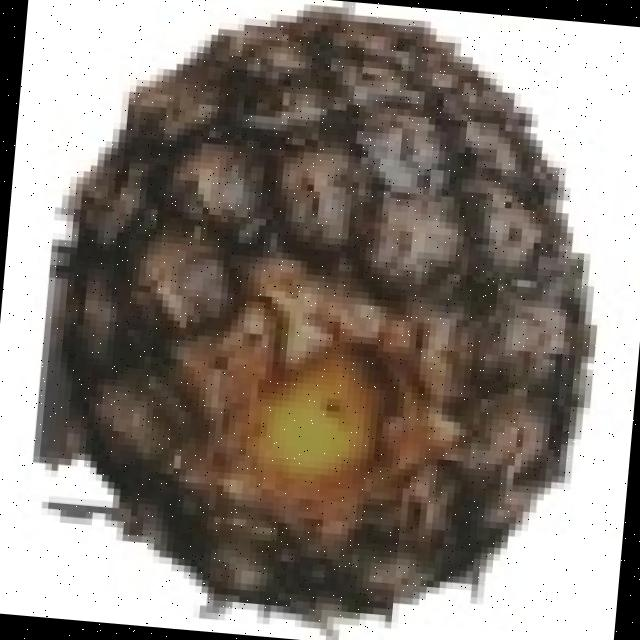pineapple: (52, 5, 601, 606)
